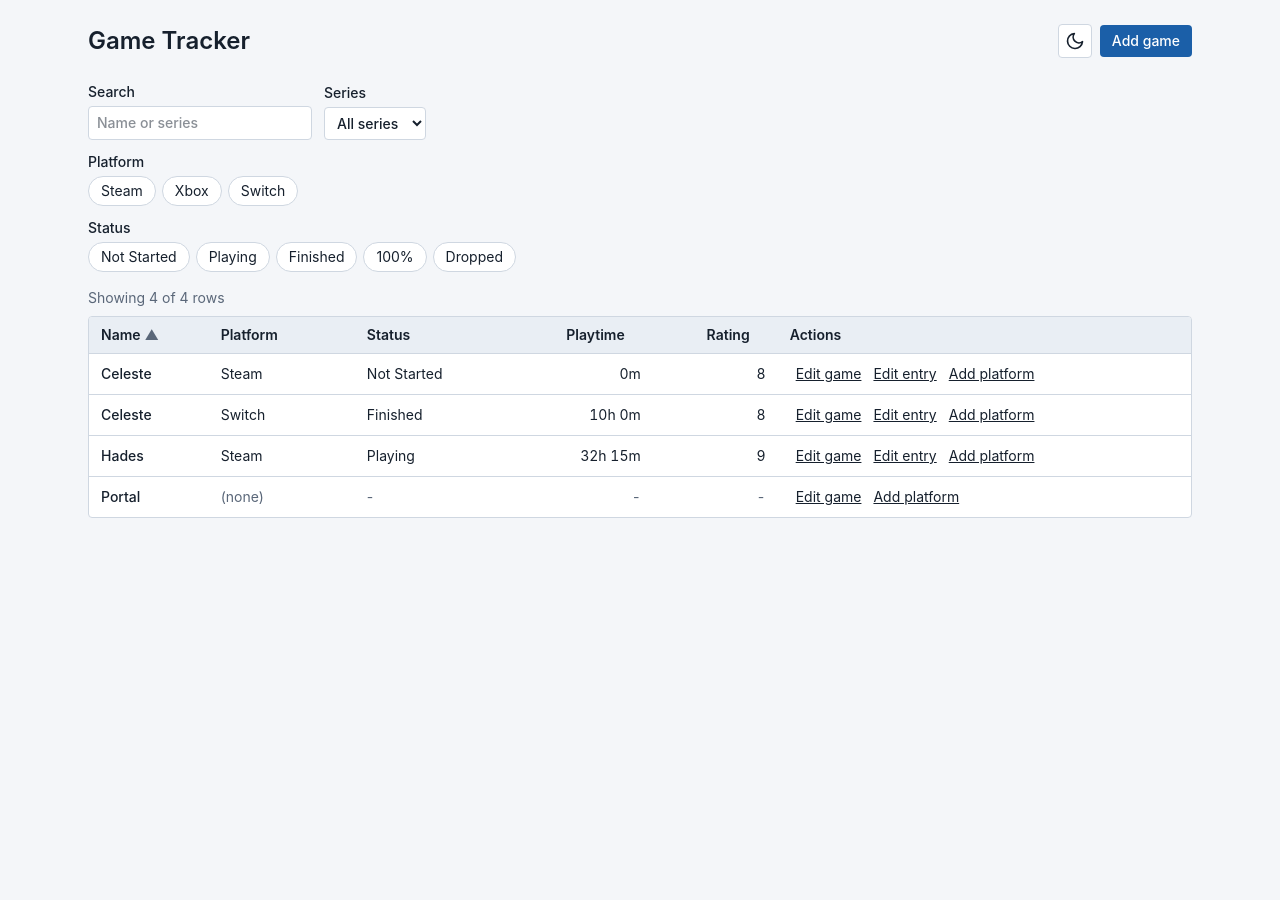
Test: LibraryPage › cancelling a delete leaves the library alone
expect the table is shown: met, box [89,317,1191,517]
Click the button with aria-label "Edit game Portal". click: (829, 497)
box: [790,485,868,509]
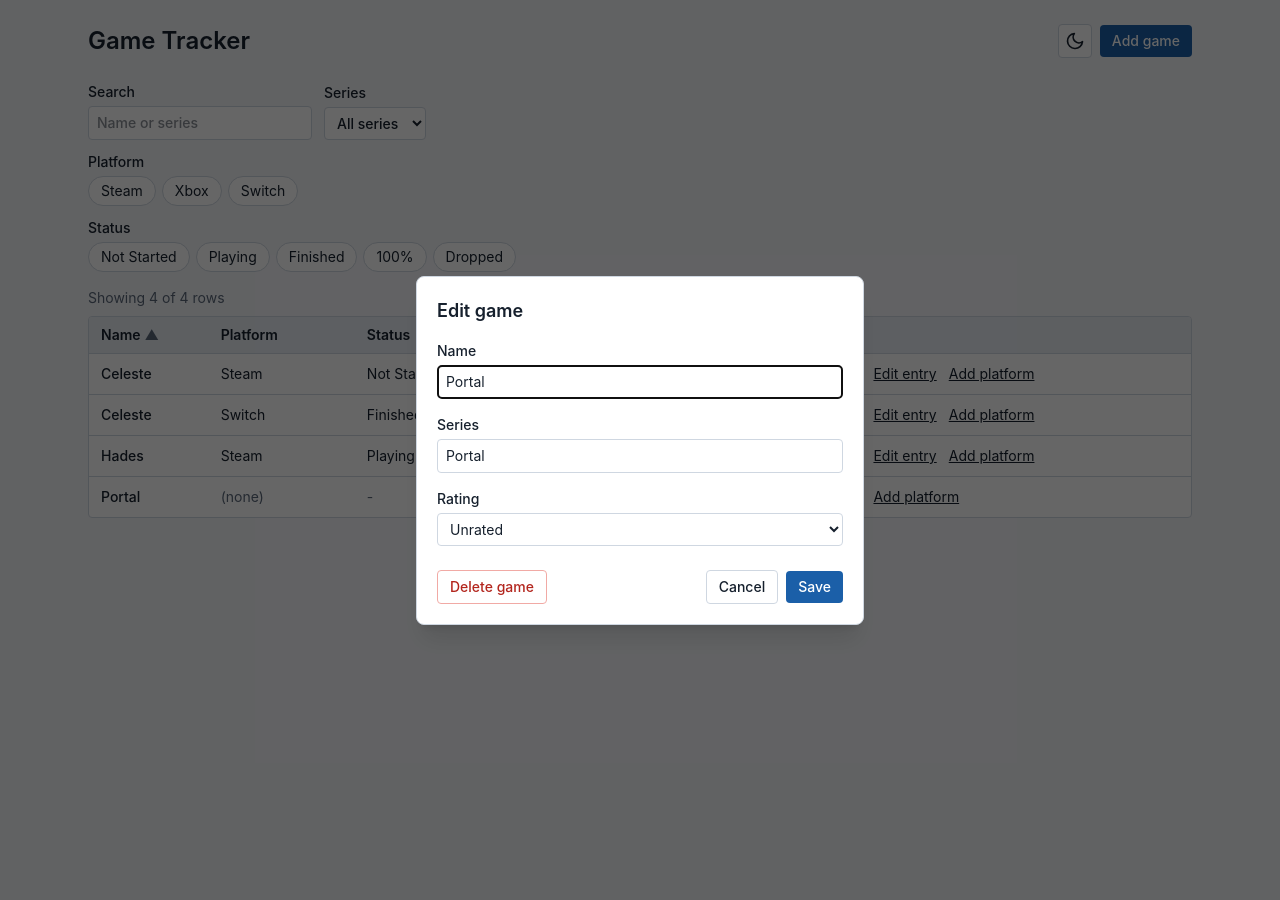
Click the button "Delete game". click: (492, 586)
box: [437,570,547,604]
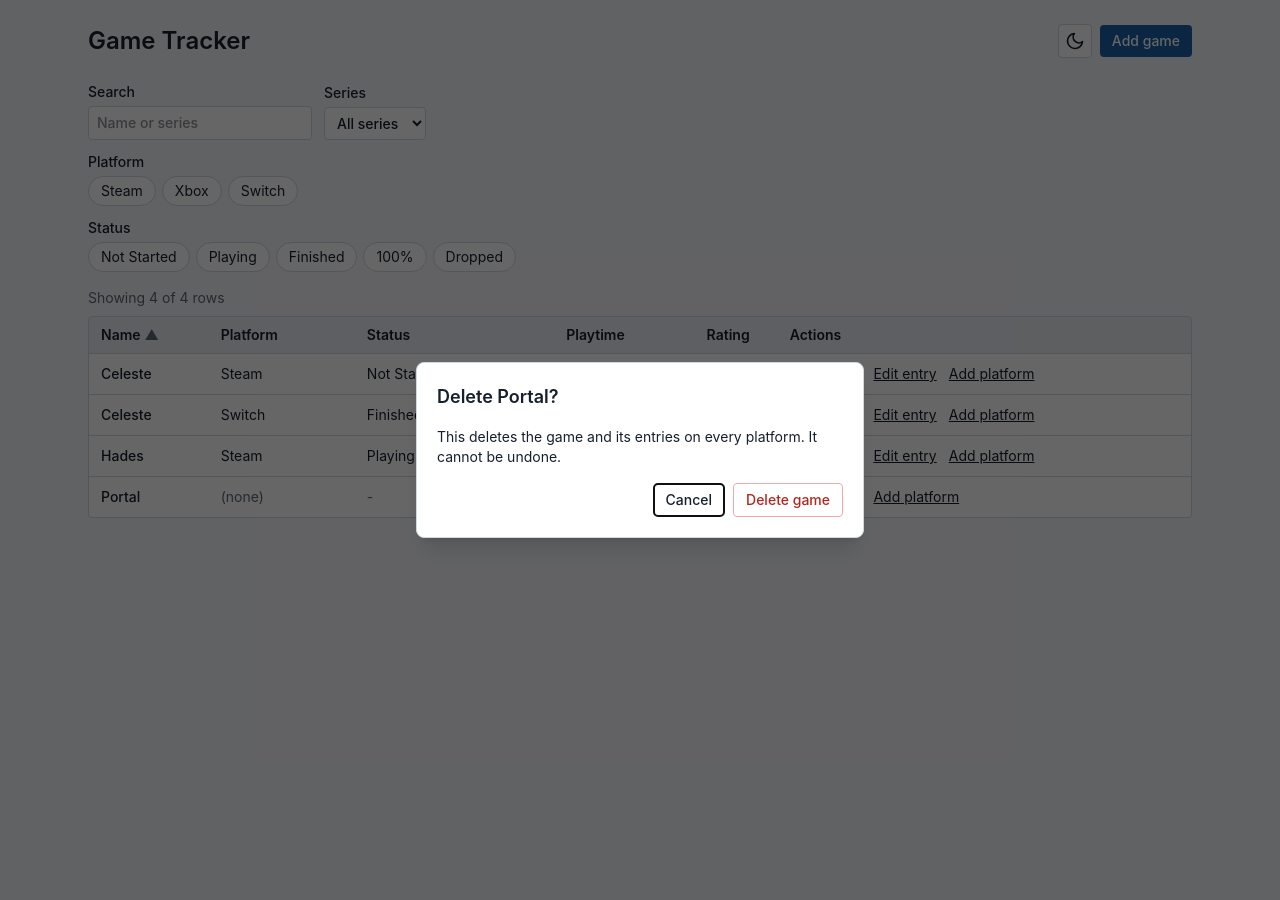
Click the button "Cancel". click: (689, 500)
box: [653,483,725,517]
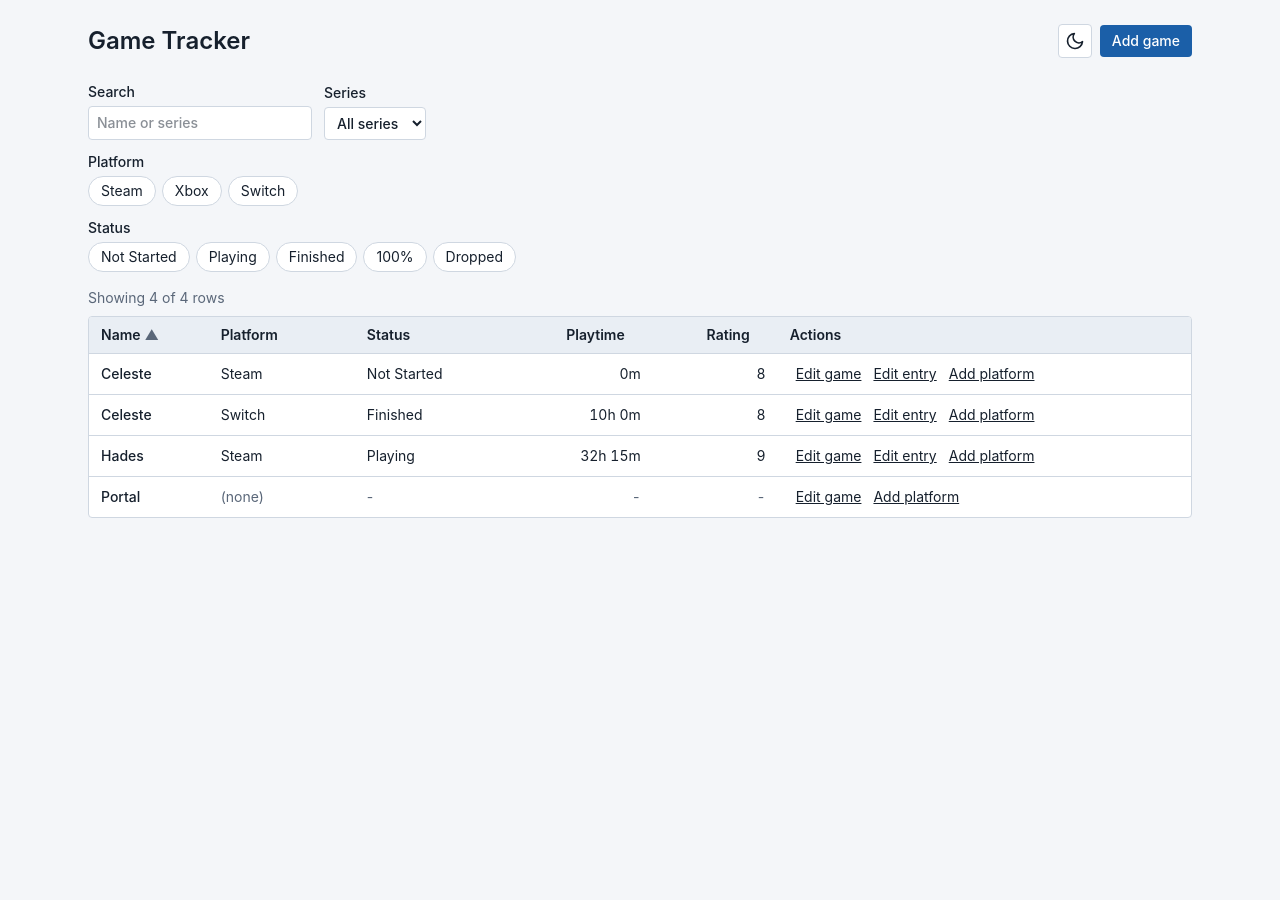
expect the dialog is gone: met
